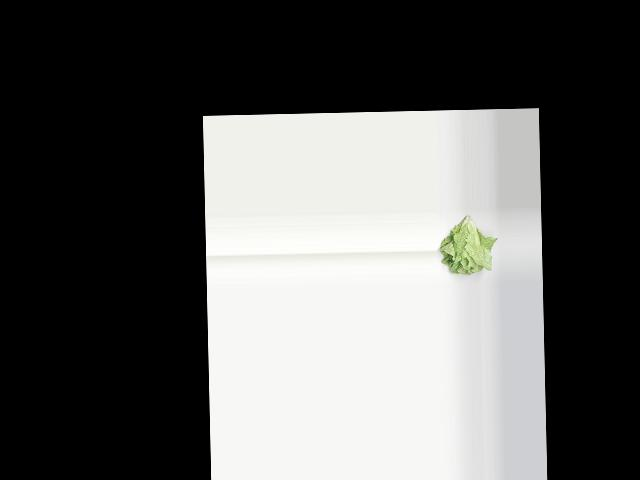lettuce: (439, 212, 492, 278)
